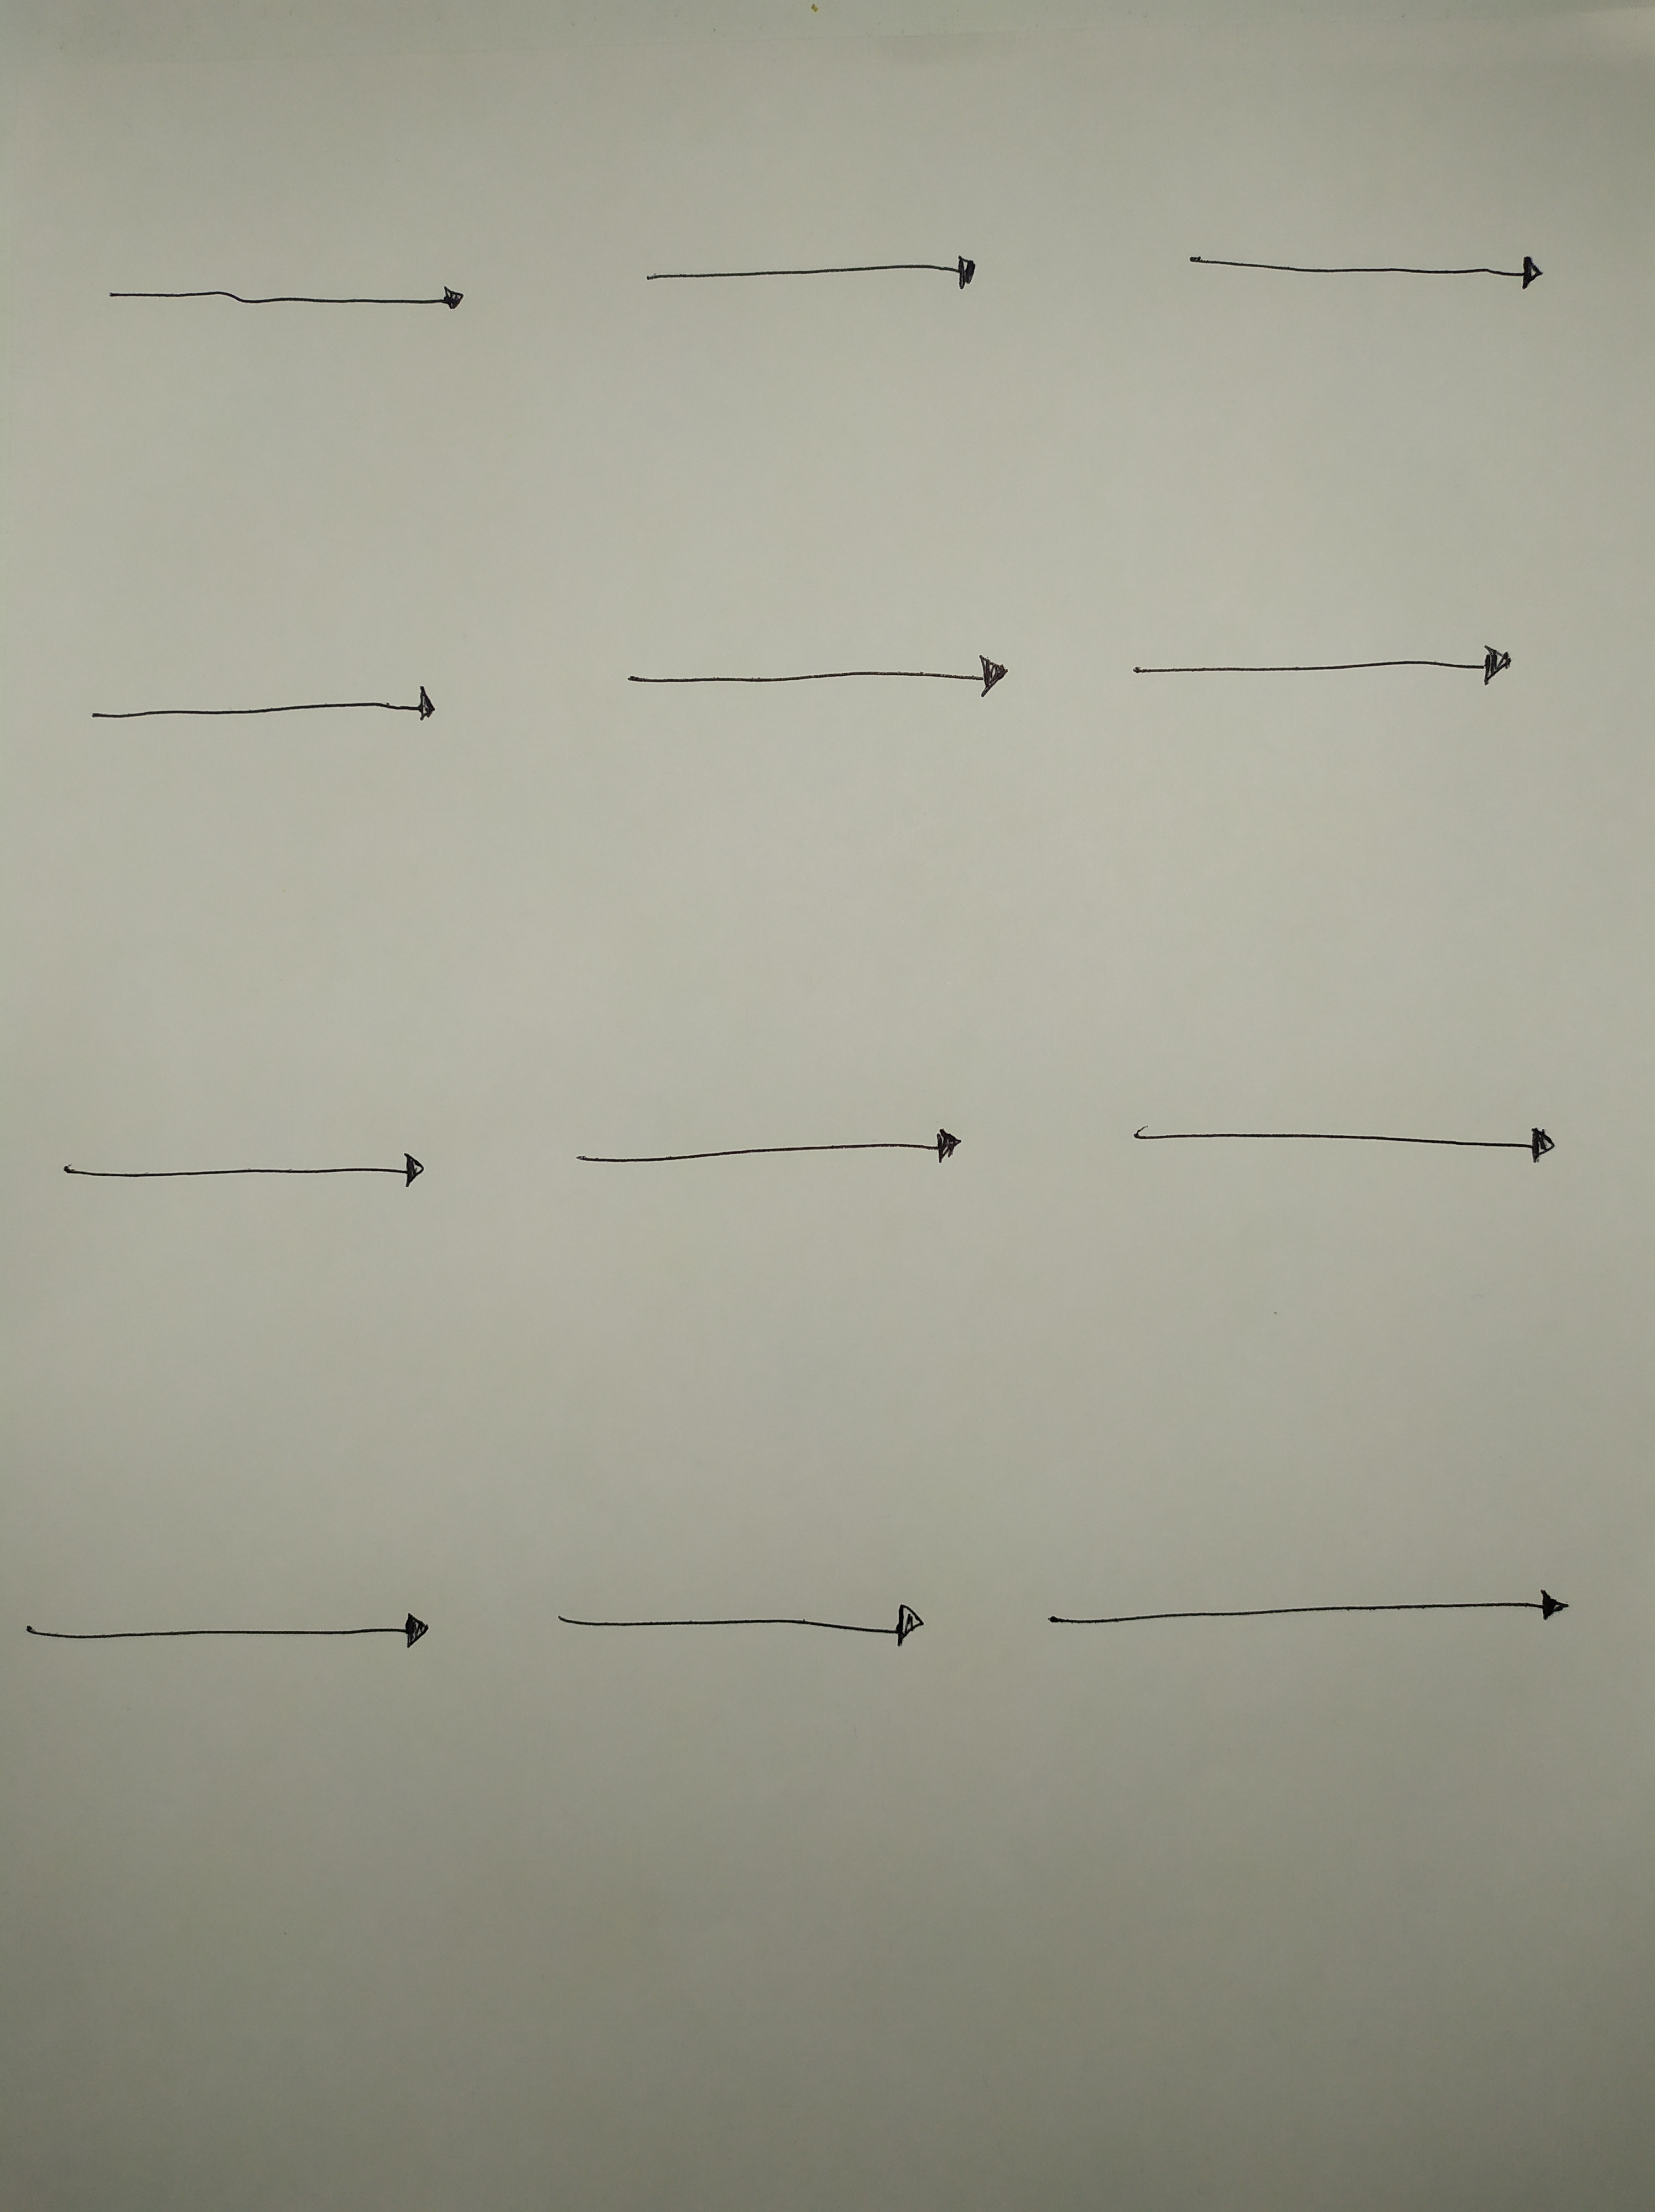arrow_line_right: (589, 622, 1036, 737), (1010, 1571, 1587, 1659), (610, 229, 1057, 332), (1102, 1102, 1580, 1195), (539, 1105, 1029, 1195), (68, 653, 490, 756), (1088, 613, 1540, 709), (21, 1119, 449, 1215), (518, 1576, 947, 1668), (1151, 214, 1580, 299), (76, 247, 492, 334), (5, 1599, 462, 1670)
